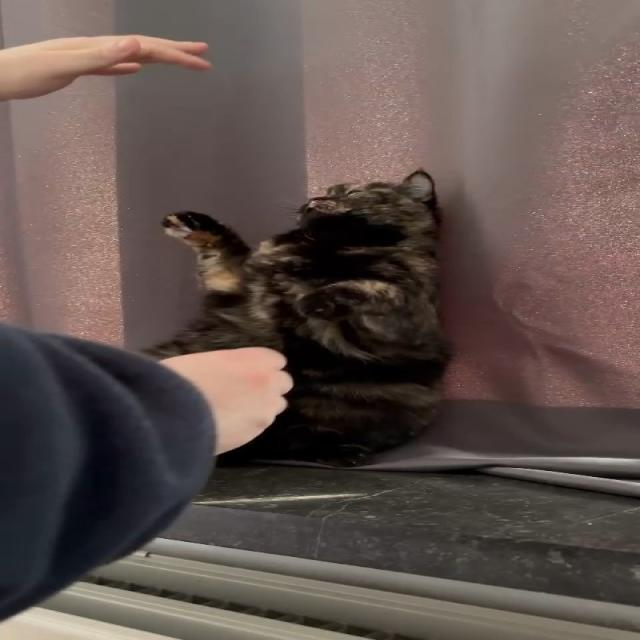authorized: (138, 167, 454, 468)
